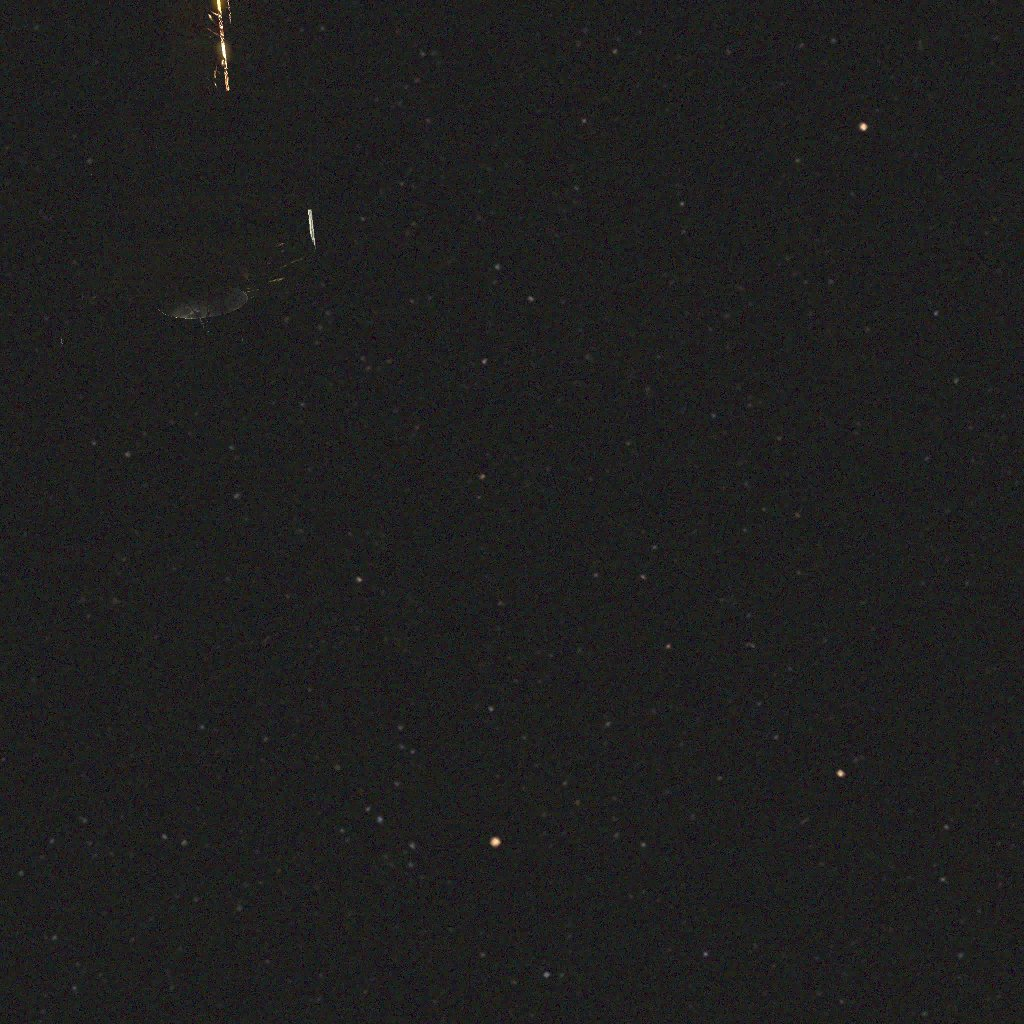soho: (42, 0, 370, 384)
